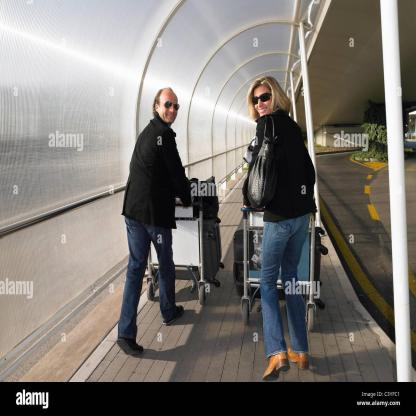airport-trolley: (236, 193, 320, 333), (138, 180, 227, 307)
